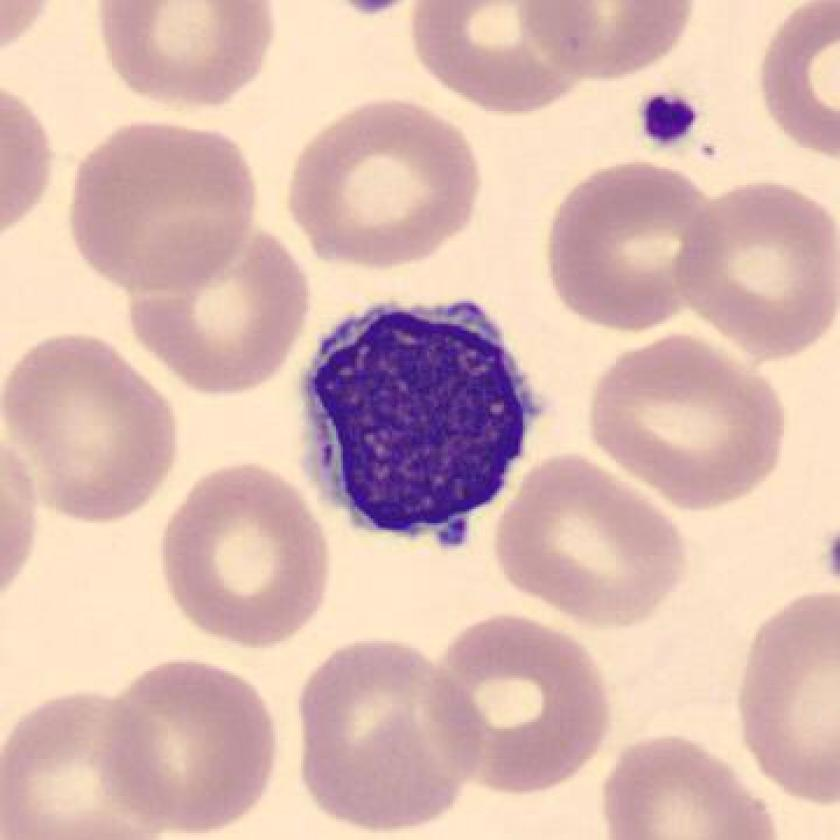lymphocyte: (283, 276, 547, 566)
platelets: (637, 84, 706, 152)
